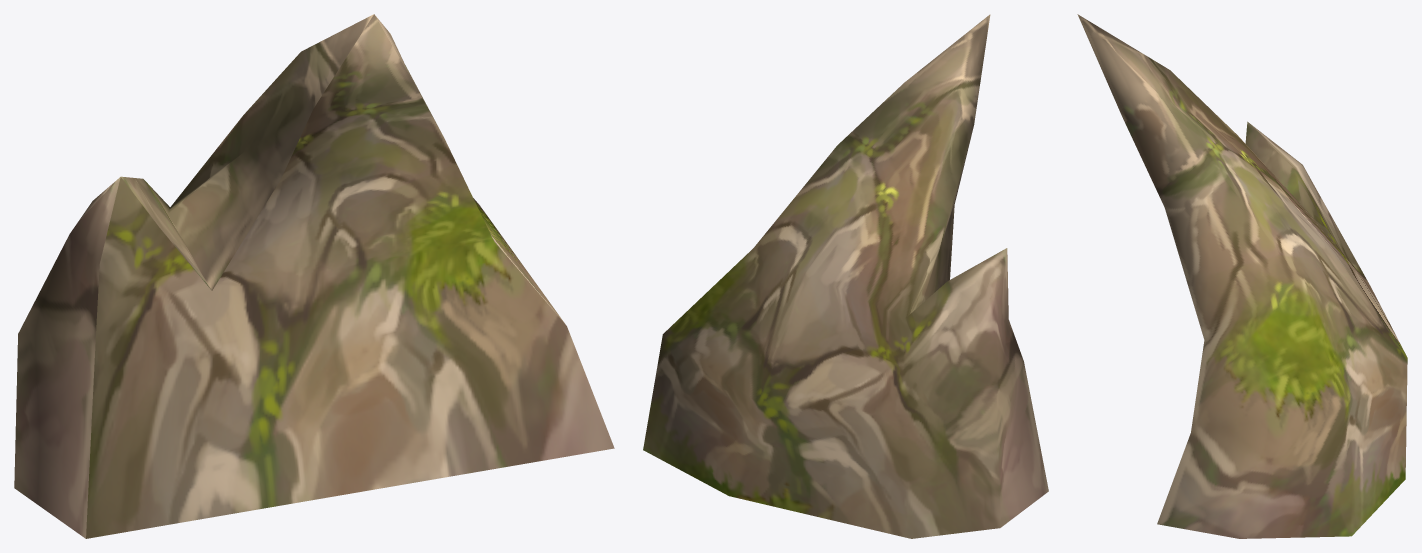
File: gjs_shitou01.FBX
The picture shows the model from 3 angles, left to right: view 1: azimuth 30°, elevation 25°; view 2: azimuth 150°, elevation 25°; view 3: azimuth 270°, elevation 25°; orthographic projection. The views are drawn at different scales.
Visible parts, largest first — view 1: shitou01; view 2: shitou01; view 3: shitou01.
Boxes of the visible parts, x1,y1,x2,y2 form: shitou01: (14,14,614,538); shitou01: (643,14,1048,538); shitou01: (1077,14,1407,538).
Bounding box in the file's own units: 396 × 419 × 305.
